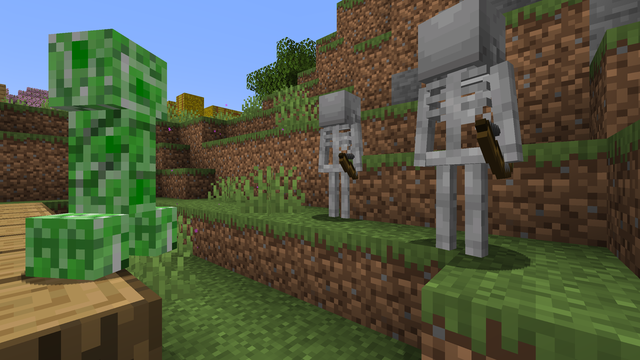creepers: (54, 2, 170, 280)
squelettes: (413, 4, 505, 267), (314, 88, 364, 220)
